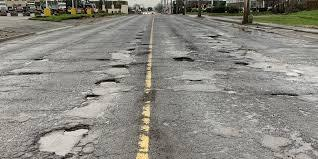pothole: (34, 121, 91, 159), (124, 28, 153, 54), (264, 89, 302, 99), (17, 68, 46, 79), (171, 55, 198, 64), (97, 77, 119, 87), (85, 93, 99, 101), (232, 61, 249, 67), (95, 56, 112, 62), (111, 64, 130, 69)
